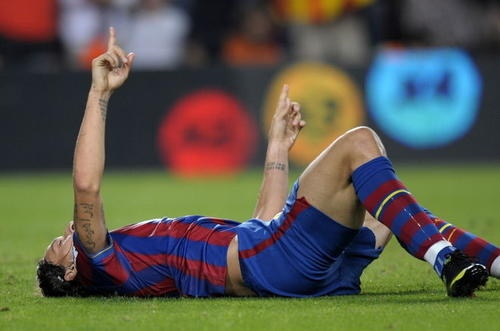falling: (15, 33, 488, 300)
